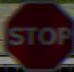Stop: (1, 10, 69, 59)
